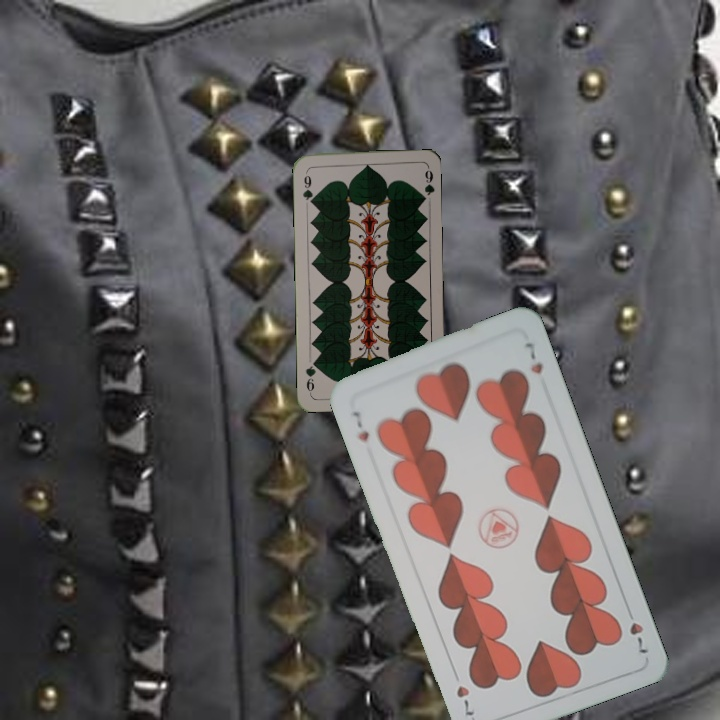G9: (299, 167, 316, 207)
H7: (621, 601, 651, 657), (348, 407, 372, 445)
